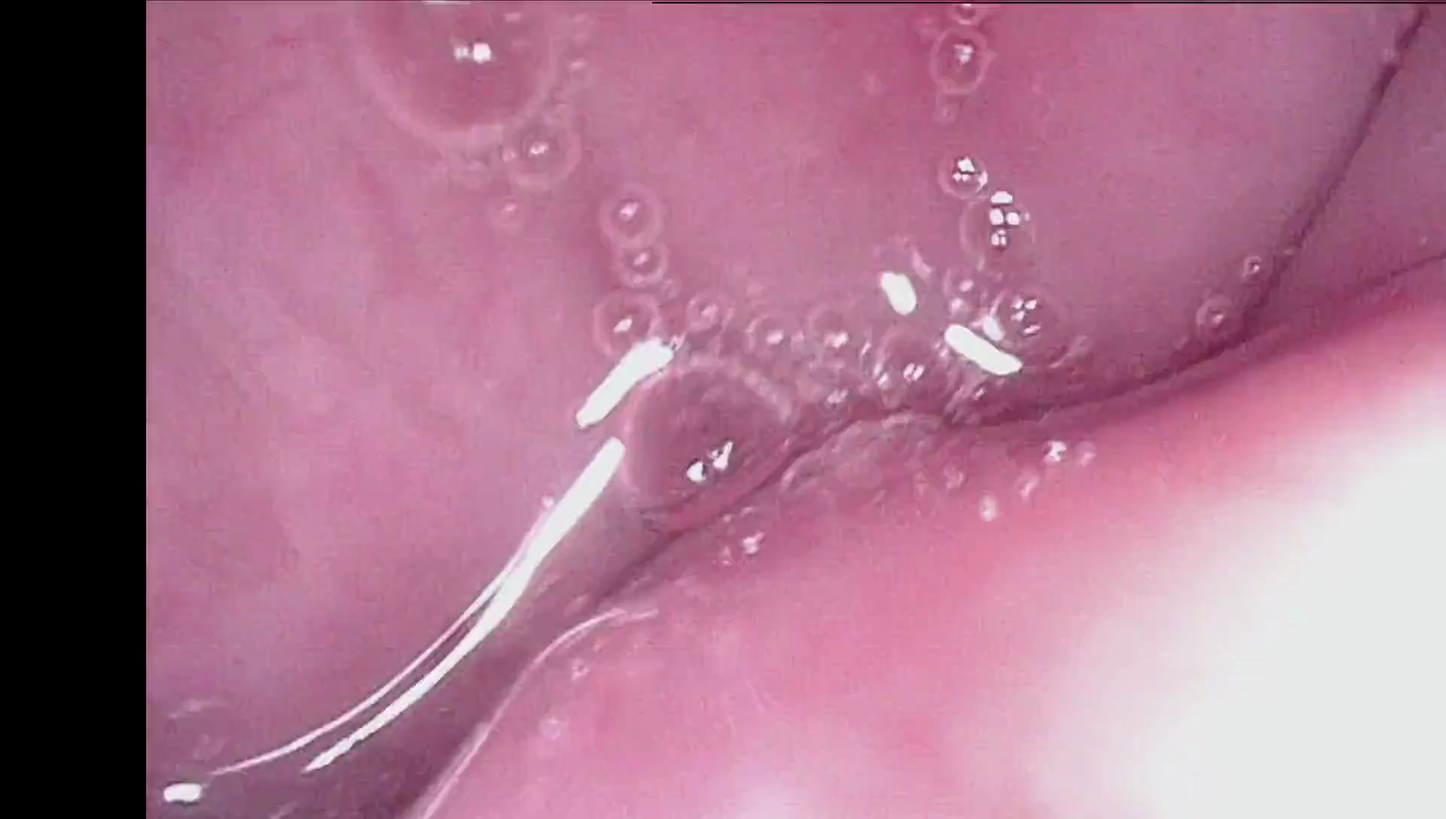close_wall: (843, 330, 1446, 819)
